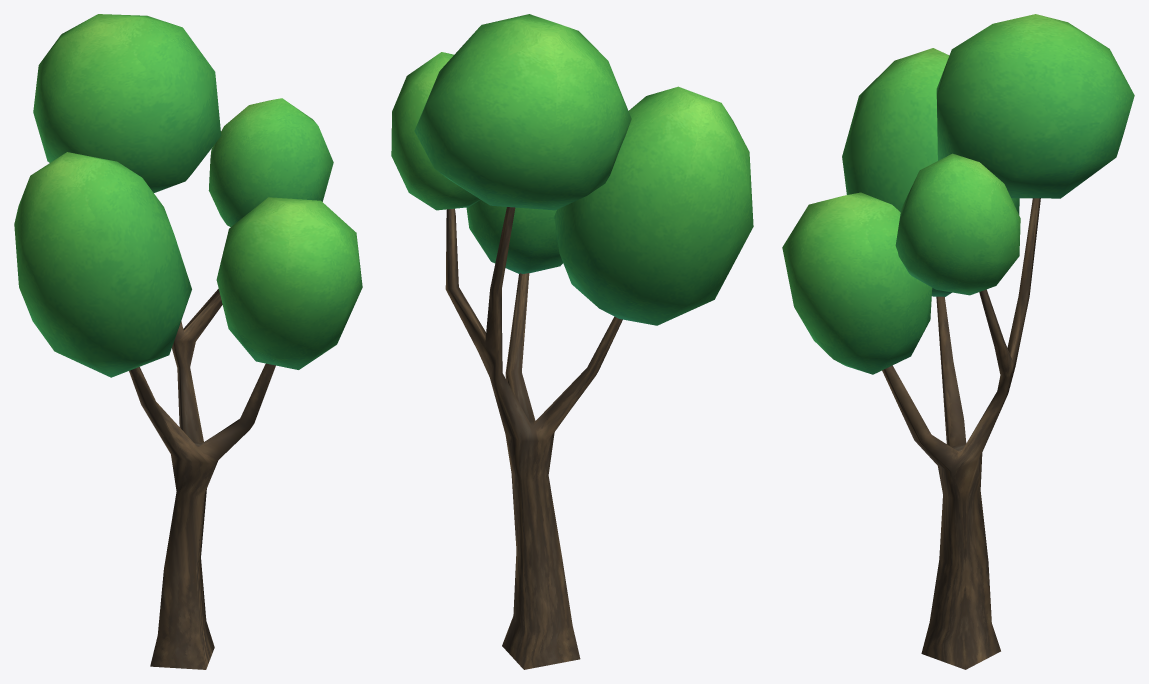
The model's file is Tree_Oak_6.fbx.
3 views of the same model, side by side, from view 1: azimuth 30°, elevation 25°; view 2: azimuth 150°, elevation 25°; view 3: azimuth 270°, elevation 25° (orthographic). The views are drawn at different scales.
Parts seen in each view (by area): view 1: Icosphere.062, Icosphere.059, Icosphere.061, Cube.084, Icosphere.060; view 2: Icosphere.062, Icosphere.059, Cube.084, Icosphere.060, Icosphere.061; view 3: Icosphere.059, Cube.084, Icosphere.061, Icosphere.060, Icosphere.062.
Part boxes in pixels (box(x1,y1,x2,y2)): Icosphere.062: box(14, 152, 191, 377); Icosphere.059: box(33, 14, 221, 192); Icosphere.061: box(216, 197, 362, 369); Cube.084: box(129, 289, 275, 669); Icosphere.060: box(208, 98, 333, 226); Icosphere.062: box(554, 86, 753, 325); Icosphere.059: box(414, 14, 631, 210); Cube.084: box(445, 207, 622, 669); Icosphere.060: box(391, 52, 480, 210); Icosphere.061: box(466, 200, 562, 273); Icosphere.059: box(936, 14, 1134, 198); Cube.084: box(882, 198, 1040, 669); Icosphere.061: box(782, 192, 932, 374); Icosphere.060: box(895, 153, 1020, 295); Icosphere.062: box(842, 48, 1019, 296).
Bounding box in the file's own units: 338 × 638 × 329.
Materials: 2 (2 with a texture image).
